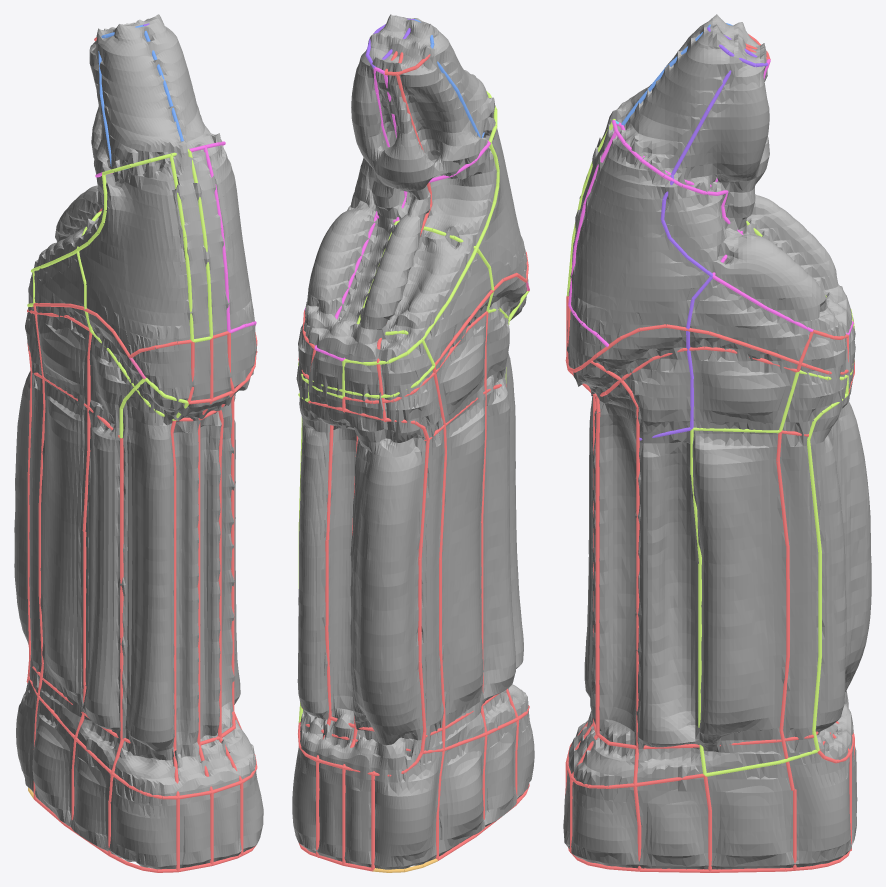
File: flowrep_bottle.gltf
The picture shows the model from 3 angles, left to right: view 1: azimuth 30°, elevation 25°; view 2: azimuth 150°, elevation 25°; view 3: azimuth 270°, elevation 25°; orthographic projection. The views are drawn at different scales.
Size of the model in its own units: 0.2085 by 0.9497 by 0.3246.
